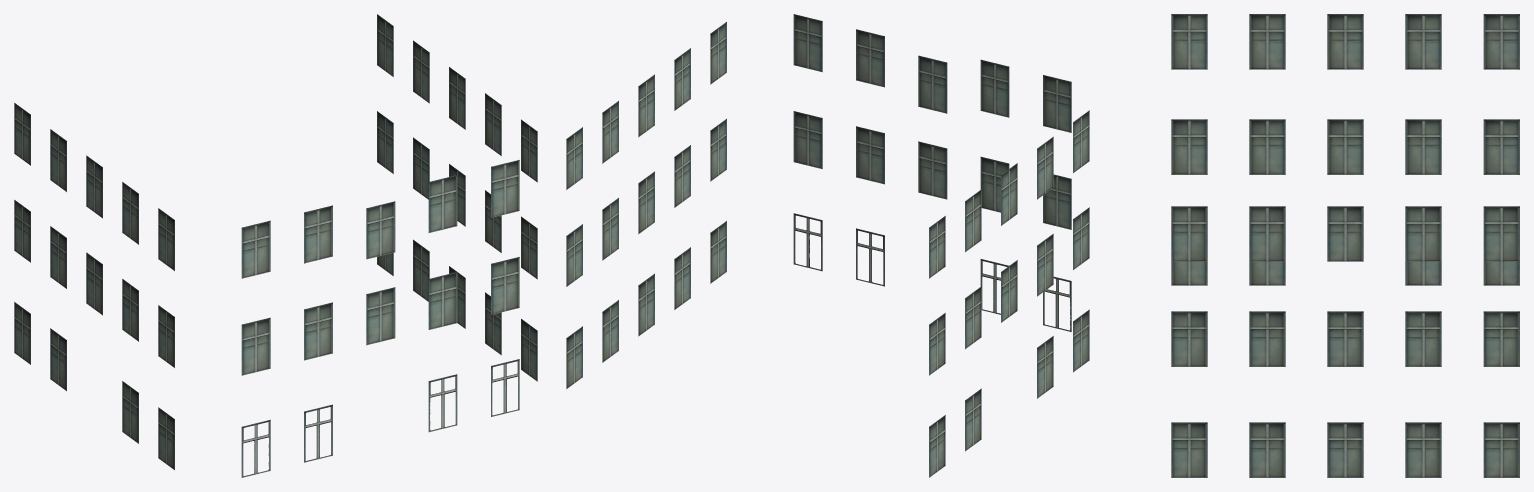
Rendered from windowfix (2).fbx.
The picture shows the model from 3 angles, left to right: view 1: azimuth 30°, elevation 25°; view 2: azimuth 150°, elevation 25°; view 3: azimuth 270°, elevation 25°; orthographic projection. The views are drawn at different scales.
Visible parts, largest first — view 1: Cube.005; view 2: Cube.005; view 3: Cube.005.
Part boxes in pixels (box(x1,y1,x2,y2)): Cube.005: box(14, 14, 537, 477); Cube.005: box(566, 14, 1089, 477); Cube.005: box(1171, 14, 1519, 477).
Size of the model in its own units: 975 by 643 by 861.
